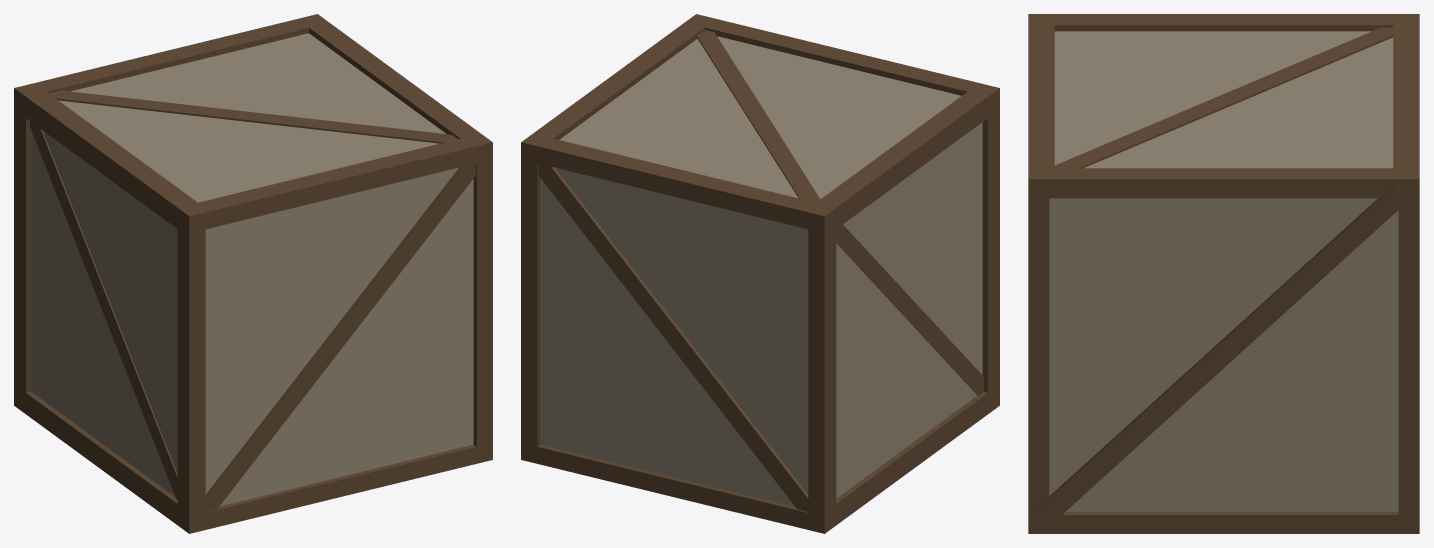
File: Crate.fbx
The picture shows the model from 3 angles, left to right: view 1: azimuth 30°, elevation 25°; view 2: azimuth 150°, elevation 25°; view 3: azimuth 270°, elevation 25°; orthographic projection. The views are drawn at different scales.
Parts seen in each view (by area): view 1: Cube; view 2: Cube; view 3: Cube.
Boxes of the visible parts, x1,y1,x2,y2 form: Cube: (14, 14, 492, 533); Cube: (521, 14, 999, 533); Cube: (1028, 14, 1419, 533).
Bounding box in the file's own units: 0.7785 × 0.7756 × 0.7756.
